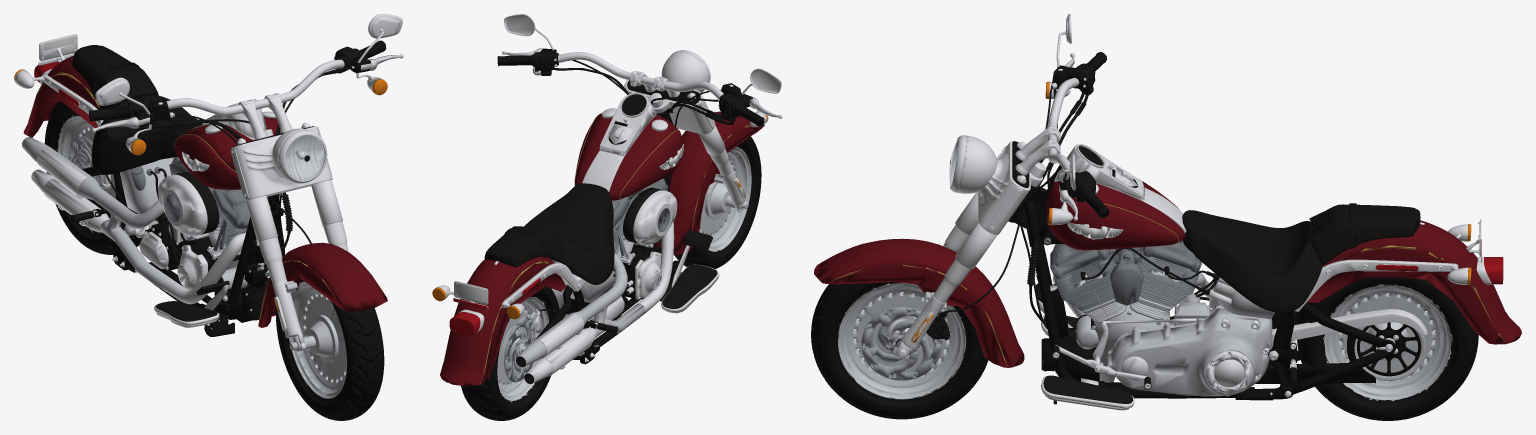
The model's file is fatboy15.glb.
The picture shows the model from 3 angles, left to right: view 1: azimuth 30°, elevation 25°; view 2: azimuth 150°, elevation 25°; view 3: azimuth 270°, elevation 25°; orthographic projection. The views are drawn at different scales.
Parts seen in each view (by area): view 1: desirefx.me_025, desirefx.me_003, desirefx.me_042, desirefx.me_055, desirefx.me_035, desirefx.me_020, desirefx.me_019, desirefx.me_051, desirefx.me_014, desirefx.me_012, desirefx.me_038, desirefx.me_004 (+18 smaller); view 2: desirefx.me_055, desirefx.me_035, desirefx.me_003, desirefx.me_019, desirefx.me_025, desirefx.me_020, desirefx.me_042, desirefx.me_029, desirefx.me_004, desirefx.me_014, desirefx.me_051, desirefx.me_045 (+18 smaller); view 3: desirefx.me_025, desirefx.me_055, desirefx.me_035, desirefx.me_020, desirefx.me_004, desirefx.me_051, desirefx.me_042, desirefx.me_019, desirefx.me_012, desirefx.me_011, desirefx.me_007, desirefx.me_006 (+14 smaller).
Part boxes in pixels (x1,y1,x2,y2): desirefx.me_025: (120,157,269,290); desirefx.me_003: (22,137,245,304); desirefx.me_042: (230,122,348,351); desirefx.me_055: (23,55,387,327); desirefx.me_035: (72,45,202,174); desirefx.me_020: (82,49,361,336); desirefx.me_019: (70,46,370,321); desirefx.me_051: (276,279,384,420); desirefx.me_014: (95,14,402,117); desirefx.me_012: (299,289,346,387); desirefx.me_038: (272,128,327,183); desirefx.me_004: (44,101,140,254); desirefx.me_055: (440,111,764,386); desirefx.me_035: (484,183,614,284); desirefx.me_003: (516,221,674,384); desirefx.me_019: (534,48,752,353); desirefx.me_025: (551,178,677,326); desirefx.me_020: (536,51,743,364); desirefx.me_042: (624,80,745,212); desirefx.me_029: (575,113,678,200); desirefx.me_004: (461,286,559,420); desirefx.me_014: (504,14,781,106); desirefx.me_051: (674,136,761,268); desirefx.me_045: (599,92,667,156); desirefx.me_025: (1049,240,1275,396); desirefx.me_055: (814,220,1521,367); desirefx.me_035: (1182,203,1420,312); desirefx.me_020: (1008,66,1421,404); desirefx.me_004: (1297,277,1478,420); desirefx.me_051: (811,282,988,419); desirefx.me_042: (892,141,1046,359); desirefx.me_019: (895,63,1341,403); desirefx.me_012: (848,289,955,385); desirefx.me_011: (1336,291,1439,384); desirefx.me_007: (837,283,965,399); desirefx.me_006: (1324,285,1451,400).
Bounding box in the file's own units: 1.28 × 1.22 × 2.36.
